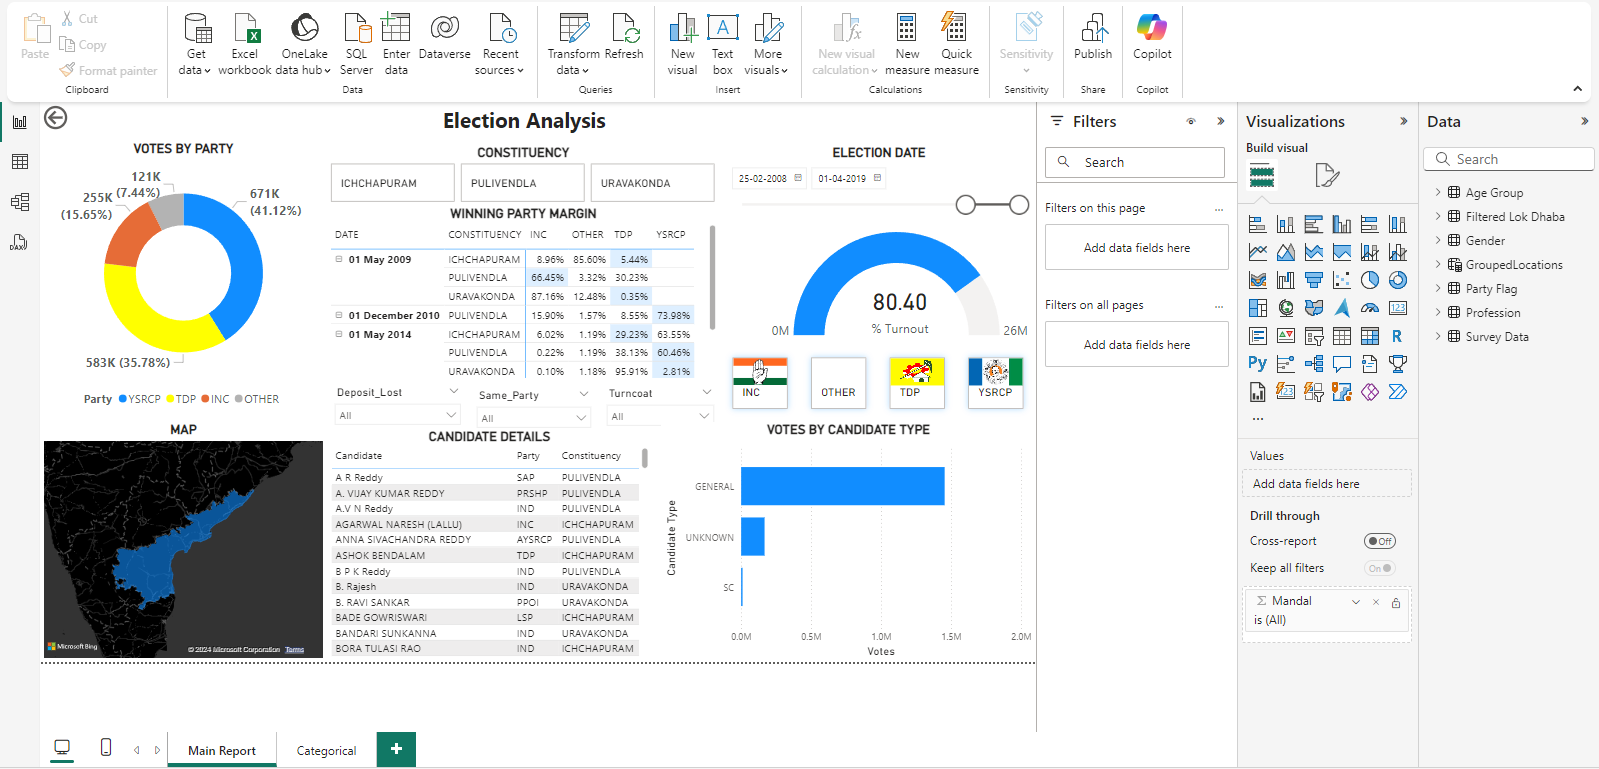

The page's visual inventory and layout, read from the dashboard file:
{"tool":"powerbi","page":{"name":"Main Report","canvas":[1280,720],"ordinal":0},"visuals":[{"type":"donutChart","title":"VOTES BY PARTY","fields":{"Y":["Filtered Lok Dhaba.Votes"],"Category":["Filtered Lok Dhaba.Party_2","Filtered Lok Dhaba.Party"]},"box":[0,50.1,368.8,350.8],"z":0},{"type":"actionButton","box":[0,0,100,40],"z":1000},{"type":"slicer","title":"ELECTION DATE","fields":{"Values":["Filtered Lok Dhaba.Date"]},"box":[876.5,50.1,403.5,109.2],"z":2000},{"type":"filledMap","title":"MAP","fields":{"Category":["Filtered Lok Dhaba.State_Name","GroupedLocations.Mandal"],"Series":["GroupedLocations.Mandal"]},"box":[0,411.2,368.8,308.4],"z":3000},{"type":"advancedSlicerVisual","fields":{"Values":["Filtered Lok Dhaba.Constituency_2"]},"box":[368.8,50.1,505.1,83.5],"z":4000},{"type":"pivotTable","title":"WINNING PARTY MARGIN","fields":{"Rows":["Filtered Lok Dhaba.Date","Filtered Lok Dhaba.Constituency_2"],"Columns":["Filtered Lok Dhaba.Party_2"],"Values":["Filtered Lok Dhaba.Margin"]},"box":[368.8,133.7,505.1,226.2],"z":5000},{"type":"gauge","fields":{"Y":["Filtered Lok Dhaba.Valid_Votes"],"MaxValue":["Filtered Lok Dhaba.Electors"]},"box":[930.4,159.4,349.6,152.9],"z":6000},{"type":"card","fields":{"Values":["Filtered Lok Dhaba.Turnout_Percentage"]},"box":[1056.4,226.2,97.7,78.4],"z":7000},{"type":"advancedSlicerVisual","fields":{"Values":["Party Flag.Party"]},"box":[873.9,312.3,406.1,99],"z":8000},{"type":"tableEx","title":"CANDIDATE DETAILS","fields":{"Values":["Filtered Lok Dhaba.Candidate","Filtered Lok Dhaba.Party","Filtered Lok Dhaba.Constituency_2"]},"box":[368.8,420.2,417.7,299.4],"z":8001},{"type":"slicer","fields":{"Values":["Filtered Lok Dhaba.Deposit_Lost"]},"box":[368.8,359.8,182.5,56.5],"z":8002},{"type":"slicer","fields":{"Values":["Filtered Lok Dhaba.Same_Party"]},"box":[551.3,363.7,167.1,56.5],"z":8003},{"type":"slicer","fields":{"Values":["Filtered Lok Dhaba.Turncoat"]},"box":[718.4,361.1,158.1,59.1],"z":8004},{"type":"clusteredBarChart","title":"VOTES BY CANDIDATE TYPE","fields":{"Y":["Filtered Lok Dhaba.Votes"],"Category":["Filtered Lok Dhaba.Candidate Type 2"]},"box":[798.1,411.2,481.9,307.1],"z":8005},{"type":"textbox","box":[471.1,0,301,48.6],"z":8006}]}

Visuals, with their boxes on the page's 1280x720 design canvas (x1, y1, x2, y2). These are canvas units, not pixel positions in the 1599x769 screenshot, which may show the page scaled, cropped or inside an application window:
"VOTES BY PARTY" donutChart: 0:50:369:401
actionButton: 0:0:100:40
"ELECTION DATE" slicer: 876:50:1280:159
"MAP" filledMap: 0:411:369:720
advancedSlicerVisual - Filtered Lok Dhaba.Constituency_2: 369:50:874:134
"WINNING PARTY MARGIN" pivotTable: 369:134:874:360
gauge - Filtered Lok Dhaba.Valid_Votes x Filtered Lok Dhaba.Electors: 930:159:1280:312
card - Filtered Lok Dhaba.Turnout_Percentage: 1056:226:1154:305
advancedSlicerVisual - Party Flag.Party: 874:312:1280:411
"CANDIDATE DETAILS" tableEx: 369:420:786:720
slicer - Filtered Lok Dhaba.Deposit_Lost: 369:360:551:416
slicer - Filtered Lok Dhaba.Same_Party: 551:364:718:420
slicer - Filtered Lok Dhaba.Turncoat: 718:361:876:420
"VOTES BY CANDIDATE TYPE" clusteredBarChart: 798:411:1280:718
textbox: 471:0:772:49
